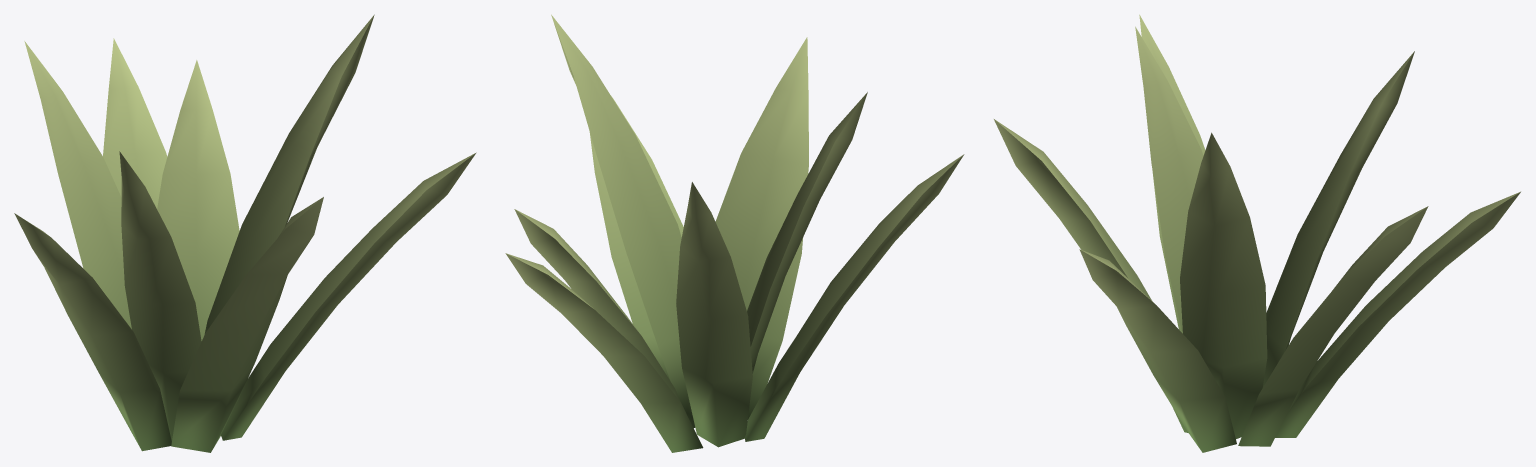
The model's file is grass_tall_a.glb.
The picture shows the model from 3 angles, left to right: view 1: azimuth 30°, elevation 25°; view 2: azimuth 150°, elevation 25°; view 3: azimuth 270°, elevation 25°; orthographic projection. The views are drawn at different scales.
Visible parts, largest first — view 1: Grass_Tall_A.001; view 2: Grass_Tall_A.001; view 3: Grass_Tall_A.001.
Boxes of the visible parts, x1,y1,x2,y2 form: Grass_Tall_A.001: (14, 14, 476, 452); Grass_Tall_A.001: (505, 14, 964, 452); Grass_Tall_A.001: (994, 14, 1520, 452).
Size of the model in its own units: 0.5733 by 0.4898 by 0.6037.
